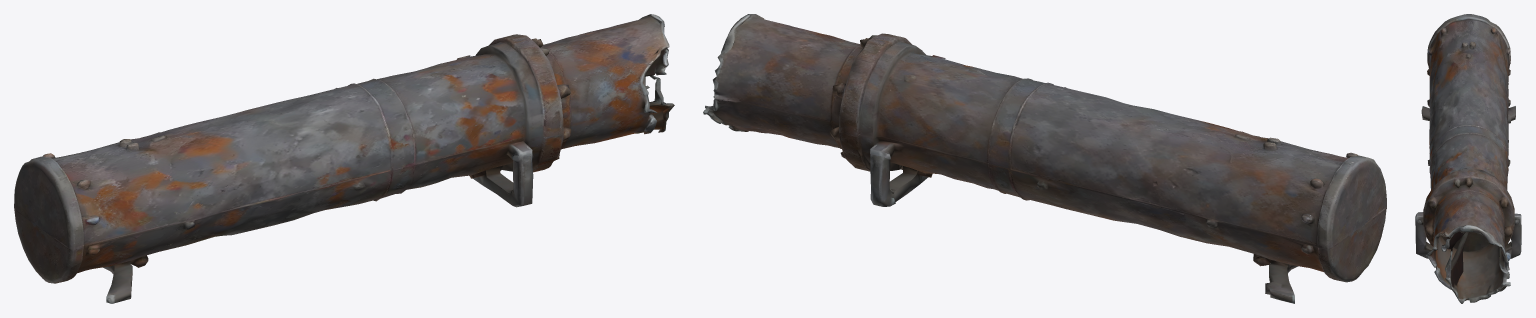
File: level-xw0-pipe.glb
The picture shows the model from 3 angles, left to right: view 1: azimuth 30°, elevation 25°; view 2: azimuth 150°, elevation 25°; view 3: azimuth 270°, elevation 25°; orthographic projection. The views are drawn at different scales.
Parts seen in each view (by area): view 1: tripo_node_4bdc9f62-07a1-483f-afb3-8267acff7794; view 2: tripo_node_4bdc9f62-07a1-483f-afb3-8267acff7794; view 3: tripo_node_4bdc9f62-07a1-483f-afb3-8267acff7794.
Part boxes in pixels (x1,y1,x2,y2): tripo_node_4bdc9f62-07a1-483f-afb3-8267acff7794: [14, 14, 674, 303]; tripo_node_4bdc9f62-07a1-483f-afb3-8267acff7794: [703, 14, 1386, 303]; tripo_node_4bdc9f62-07a1-483f-afb3-8267acff7794: [1415, 14, 1521, 303].
Bounding box in the file's own units: 2.4 × 0.5 × 0.5.
Materials: 1 (1 with a texture image).
